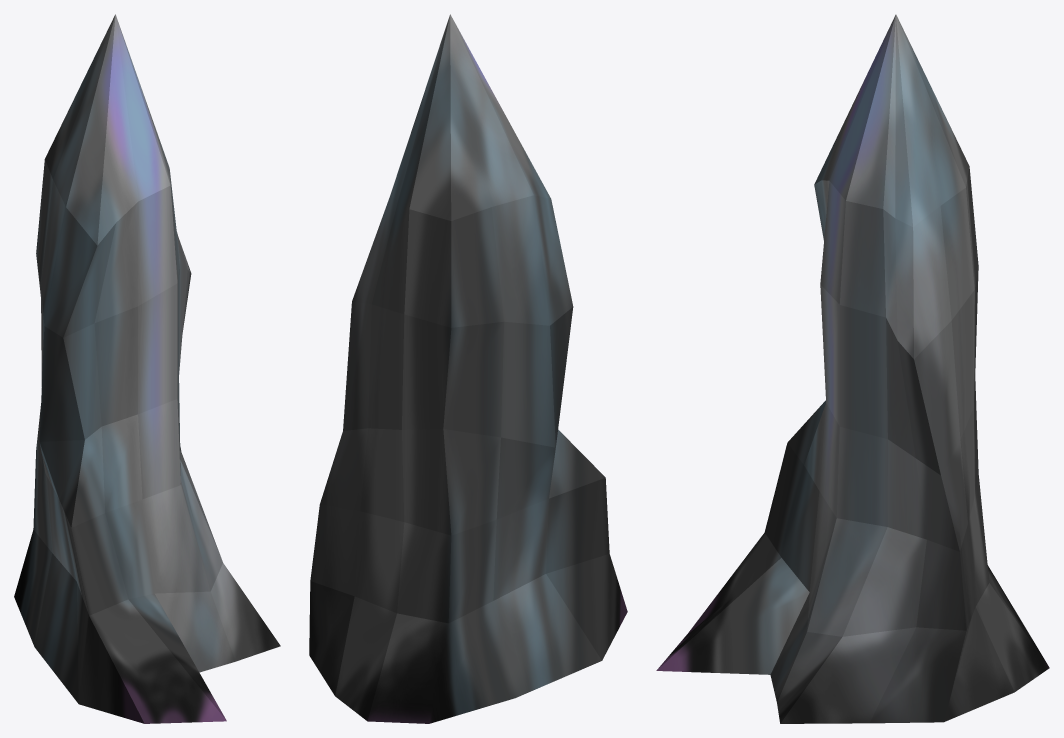
File: Mountain6.fbx
The picture shows the model from 3 angles, left to right: view 1: azimuth 30°, elevation 25°; view 2: azimuth 150°, elevation 25°; view 3: azimuth 270°, elevation 25°; orthographic projection. The views are drawn at different scales.
Parts seen in each view (by area): view 1: Mountain6; view 2: Mountain6; view 3: Mountain6.
Part boxes in pixels (x1,y1,x2,y2): Mountain6: (14,14,280,723); Mountain6: (309,14,627,723); Mountain6: (656,14,1049,723).
Bounding box in the file's own units: 1294 × 3733 × 2006.
